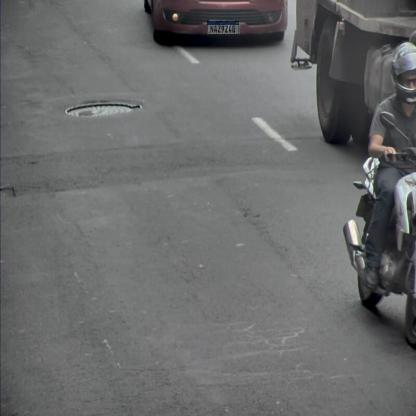PlacaM: (207, 21, 239, 34)
